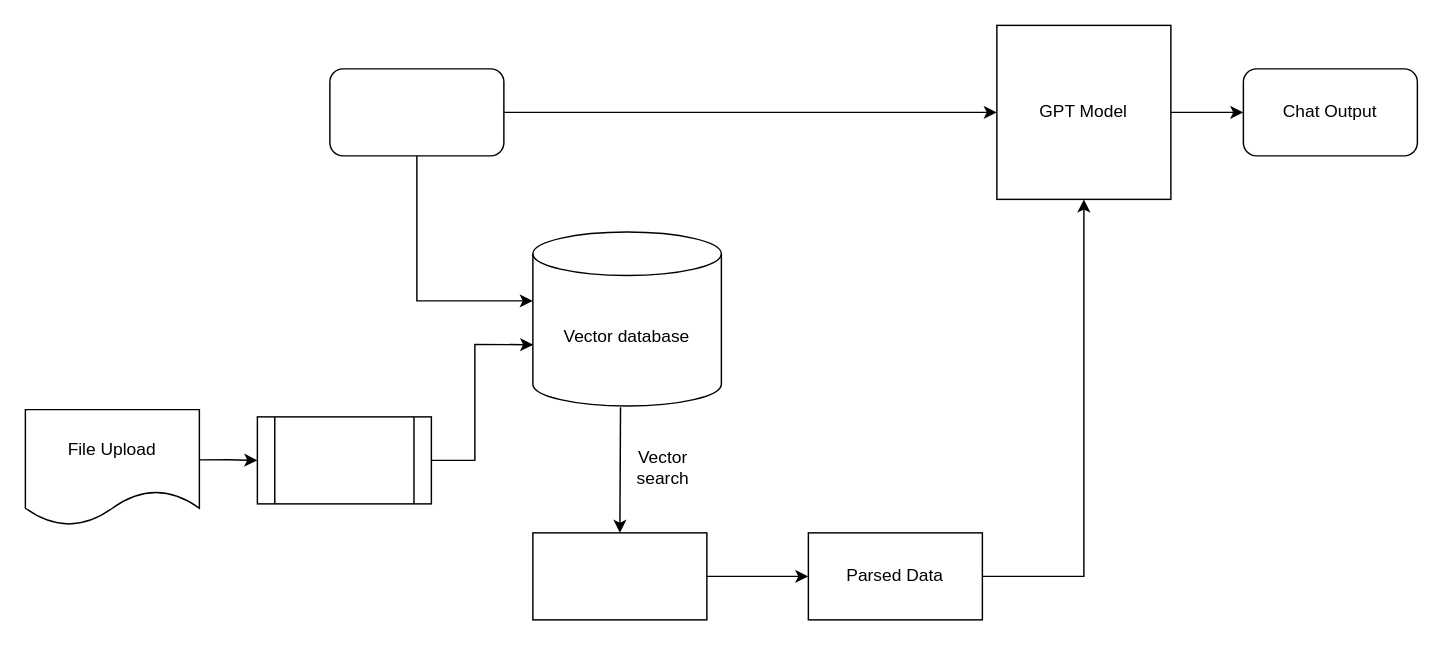
This 1443x645 diagram has some shape labels left out. The centre of each missing label's shape, as x and y in pixels:
Chat Input: (416,111)
Filtered Data: (619,575)
Split text: (343,459)
